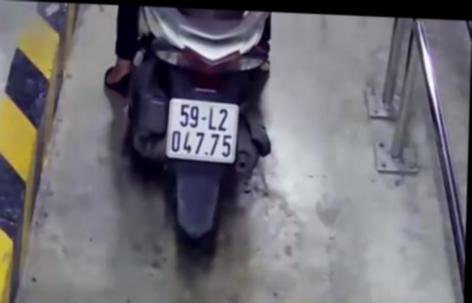License_Plate: (157, 91, 246, 169)
